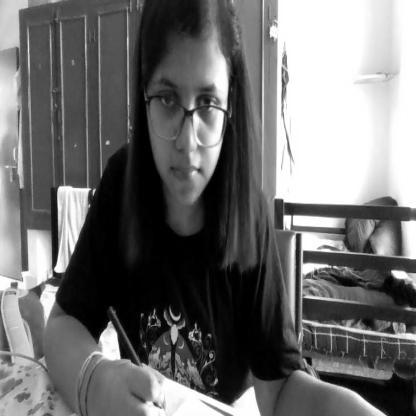Normal: (140, 0, 232, 215)
